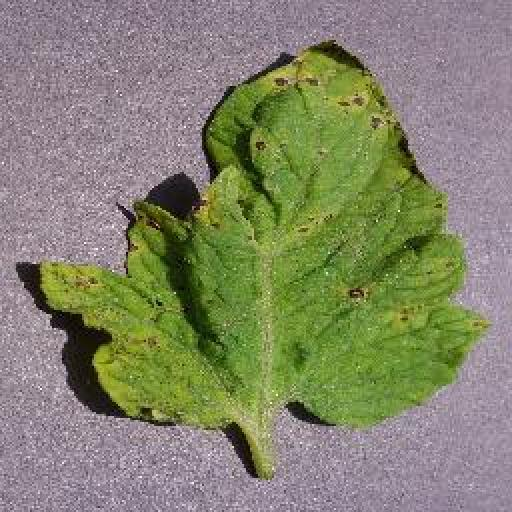disease_tomato: (34, 46, 491, 426)
